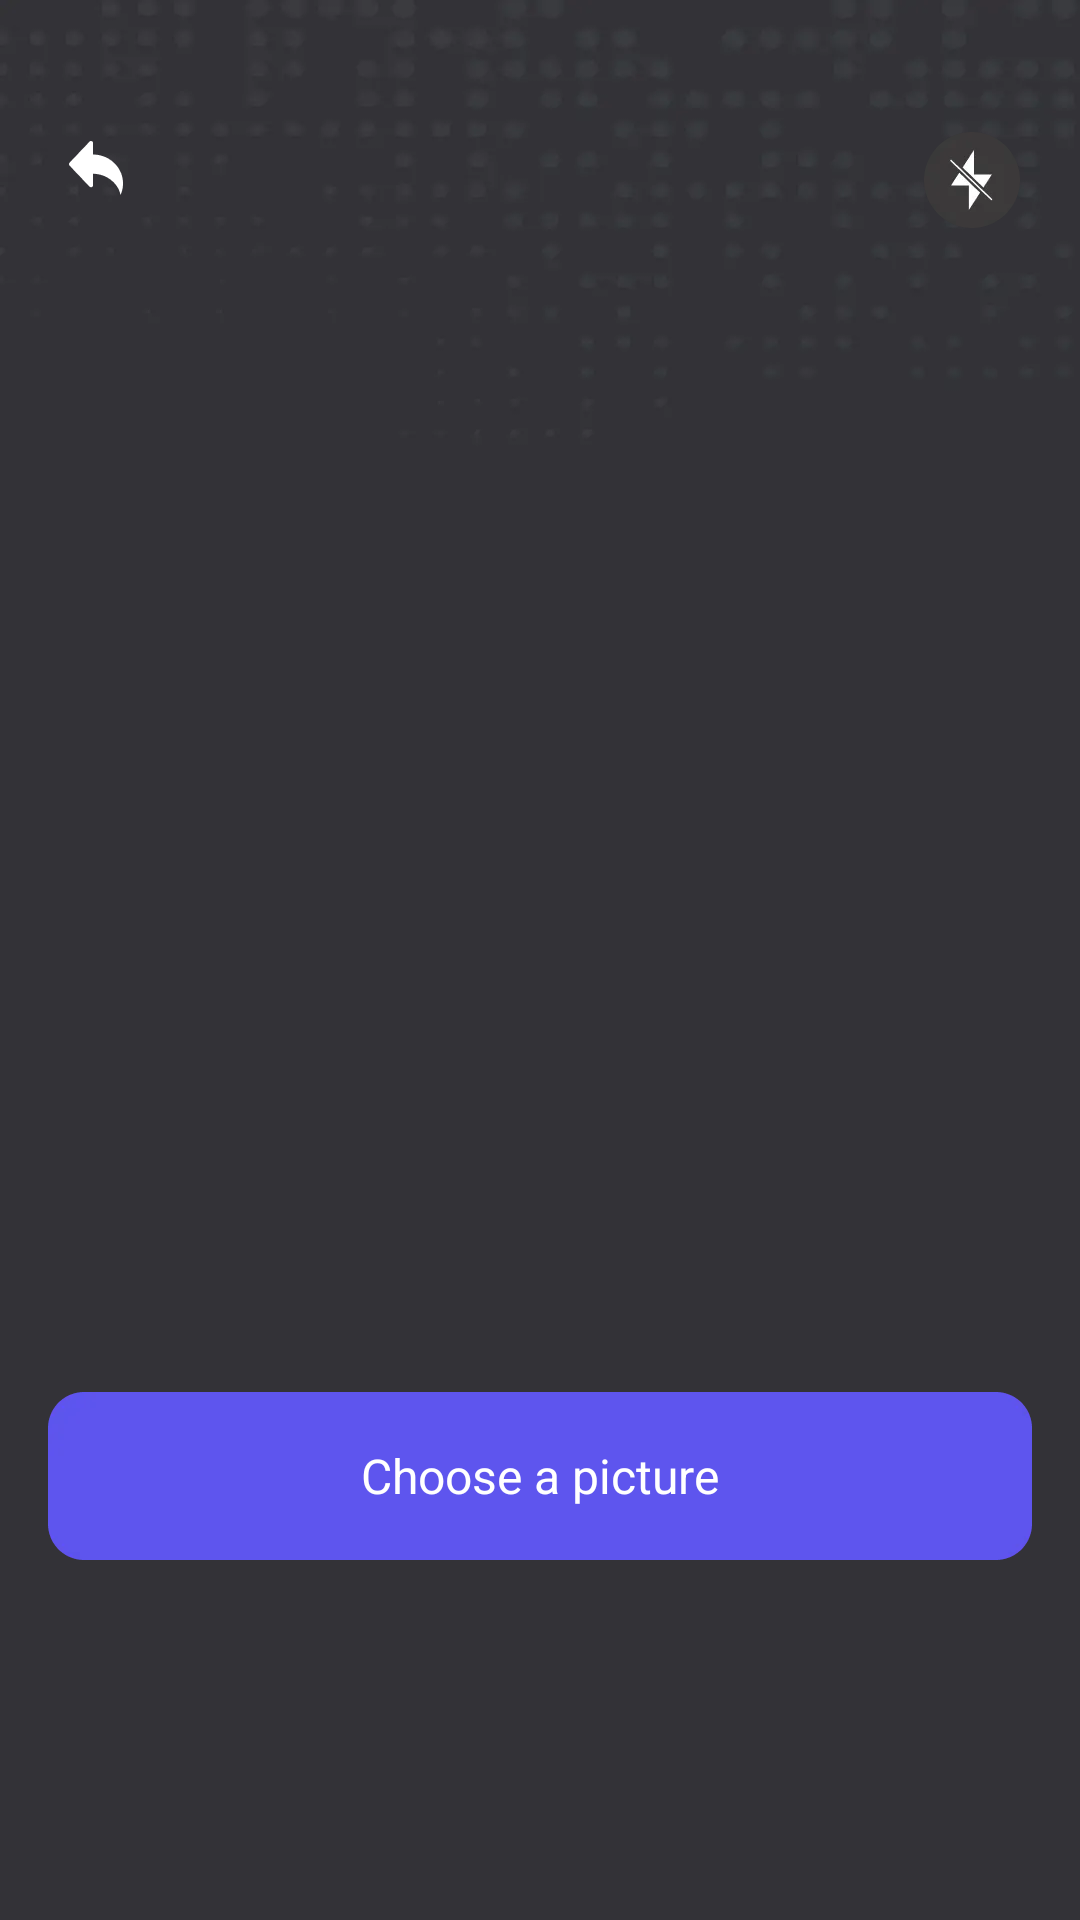

Where to tap for icons on this 1080 × 1920 app screen, as (x,y):
back: (96,168)
off: (971,180)
